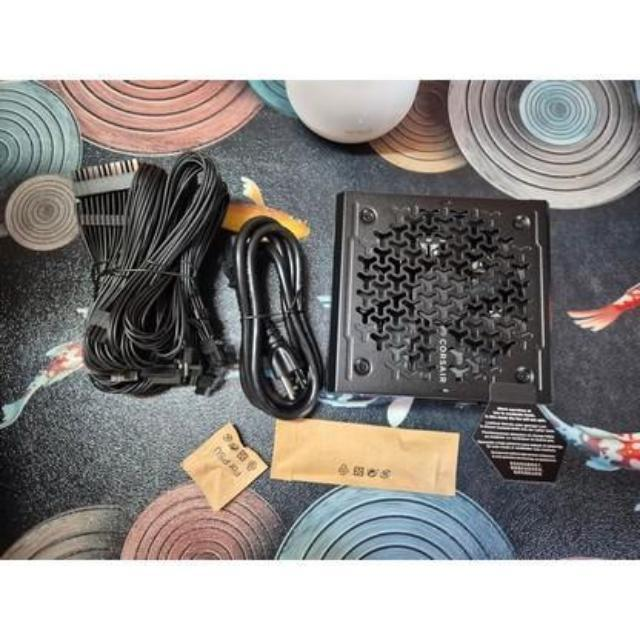PSU: (323, 189, 565, 420)
